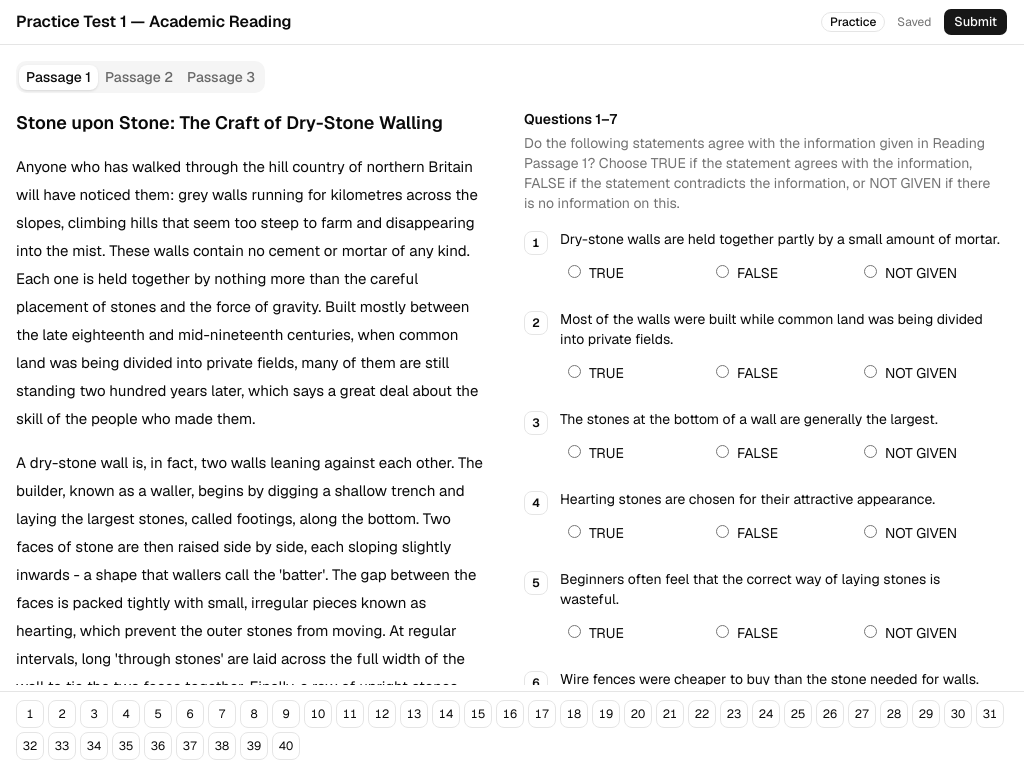
Test: a failed background refetch keeps the test on screen
Click the 1st radio button labelled "TRUE" at (574, 272), box [568,265,581,278]
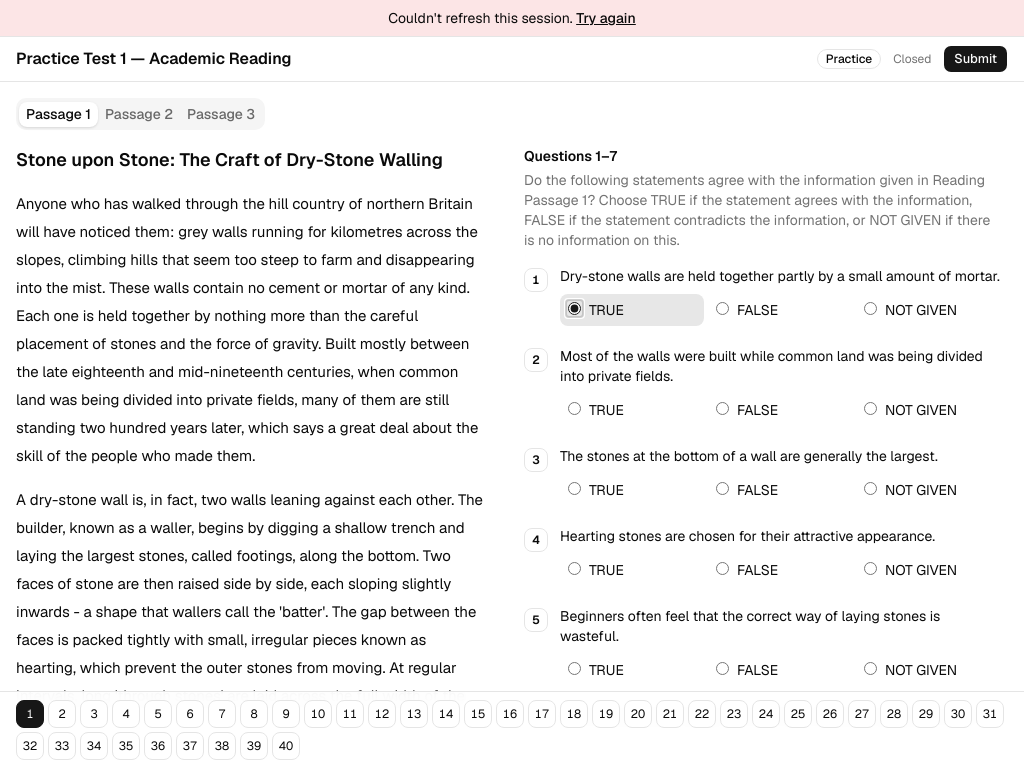
Expected: the element named "Question 1" is shown, [560,294,1000,326]
Expected: the text "Couldn't refresh this session. Try again" is shown, [0,0,1023,37]
